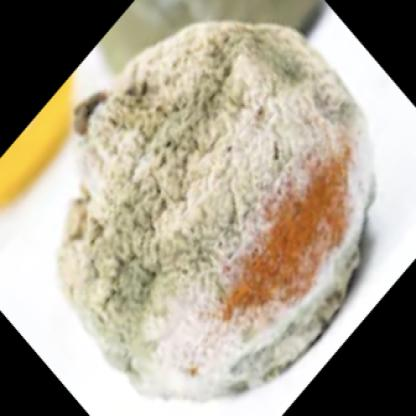rotten: (58, 18, 375, 400)
